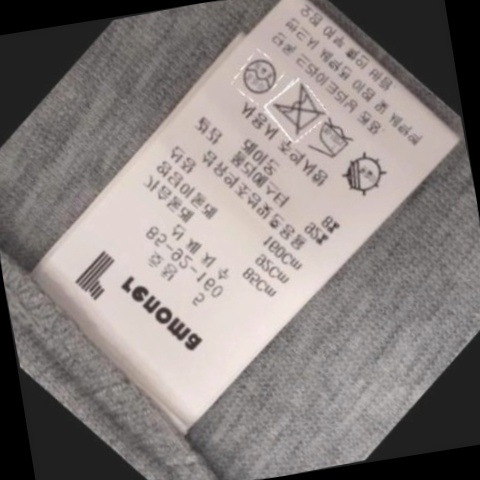DN_wash: (265, 82, 327, 138)
dry_clean_petrol_only: (233, 51, 282, 99)
iron_low: (304, 116, 359, 166)
line_dry_in_shade: (331, 149, 391, 201)
